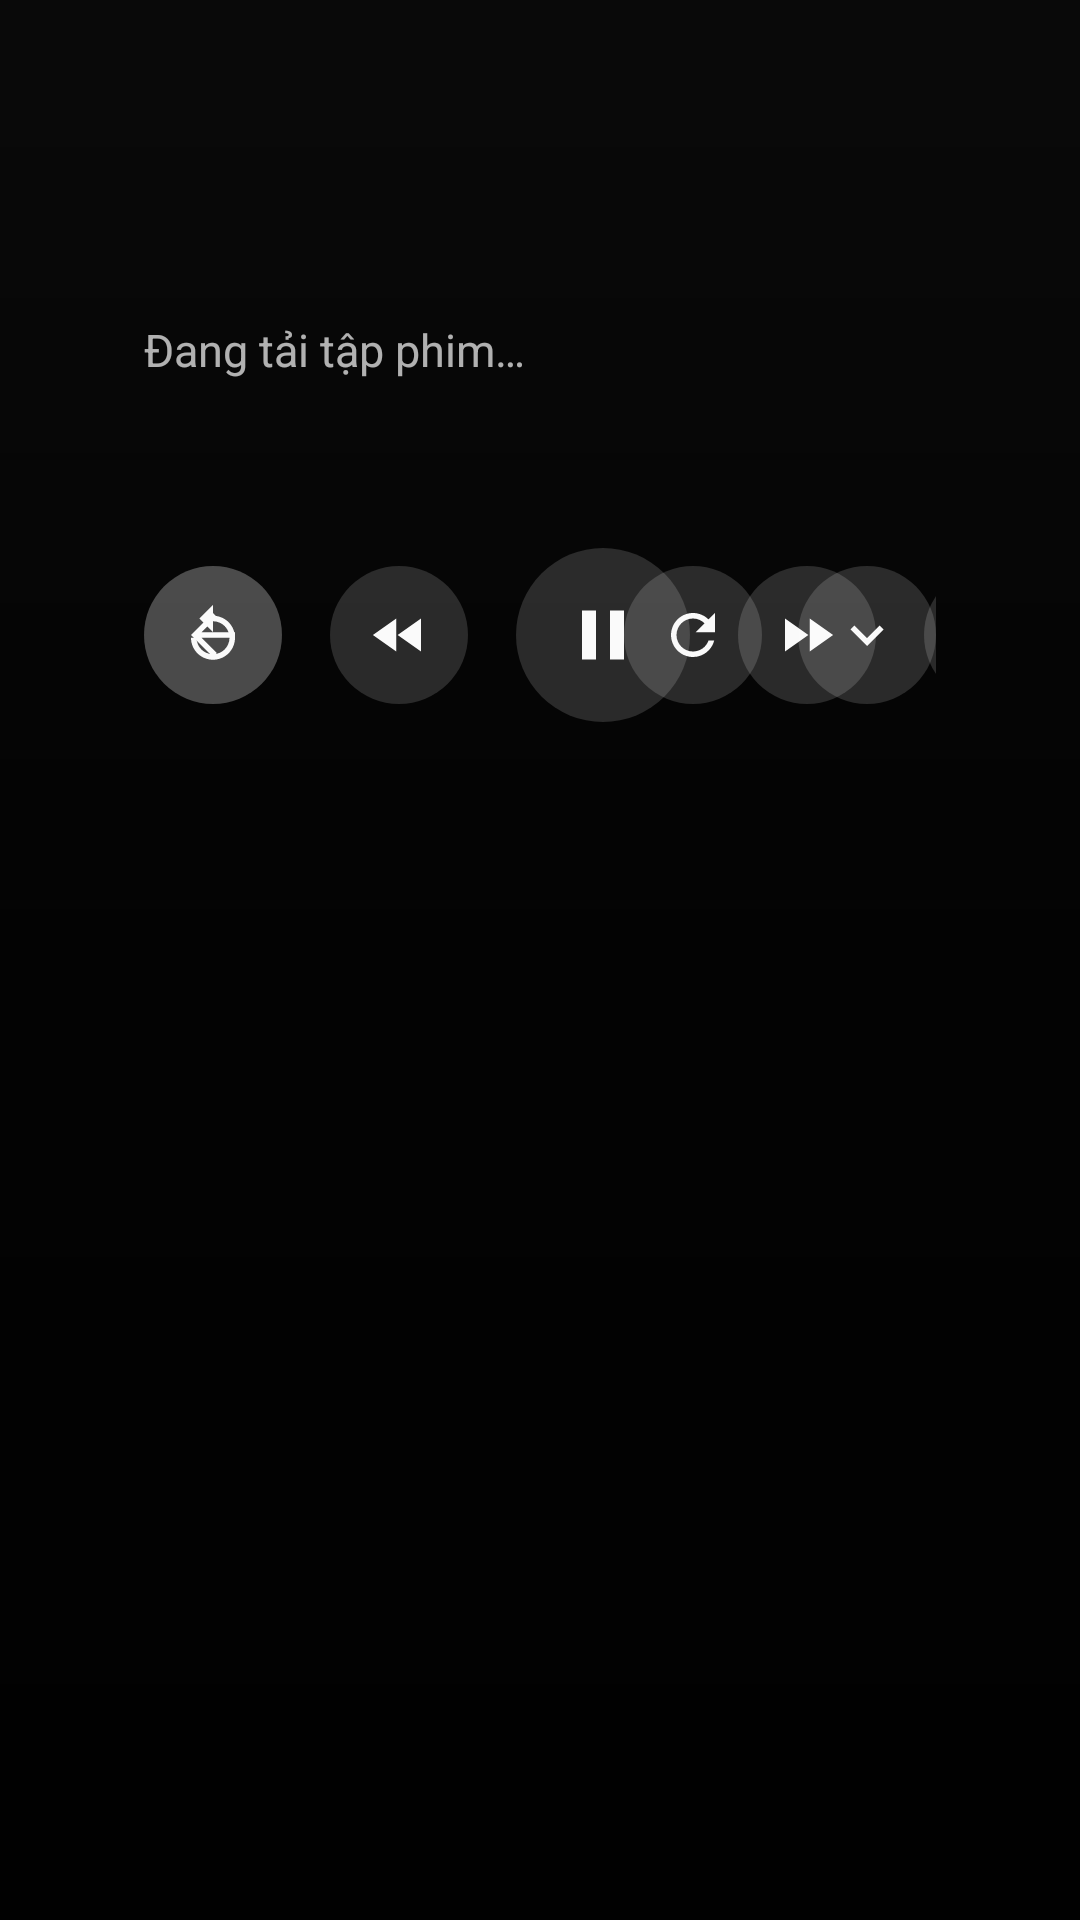

Locate icon controls on the screen. Image size 1080px x 1920px, boxes as (x1, y1, x2, y2).
Tua lại 10 giây: (330, 566, 468, 704)
